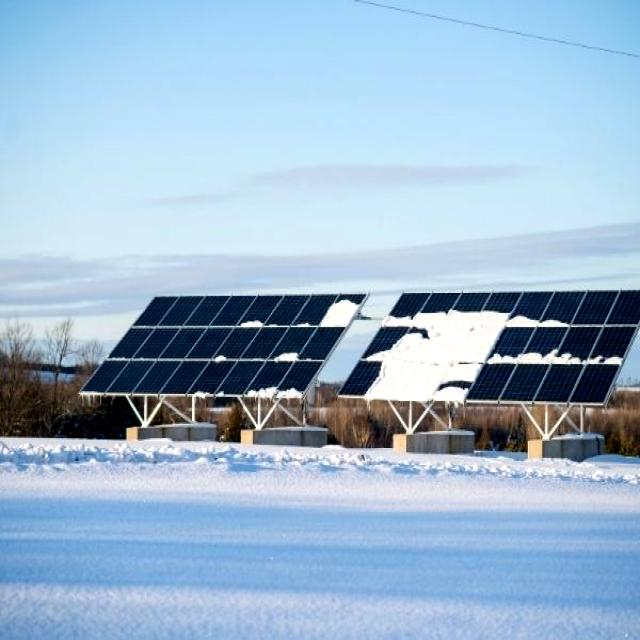panel: (365, 353, 477, 397), (382, 308, 498, 350), (497, 344, 621, 374), (314, 290, 368, 343), (227, 302, 306, 336), (509, 302, 578, 335), (242, 383, 310, 413), (180, 374, 230, 412), (256, 343, 328, 368), (197, 342, 247, 368)
